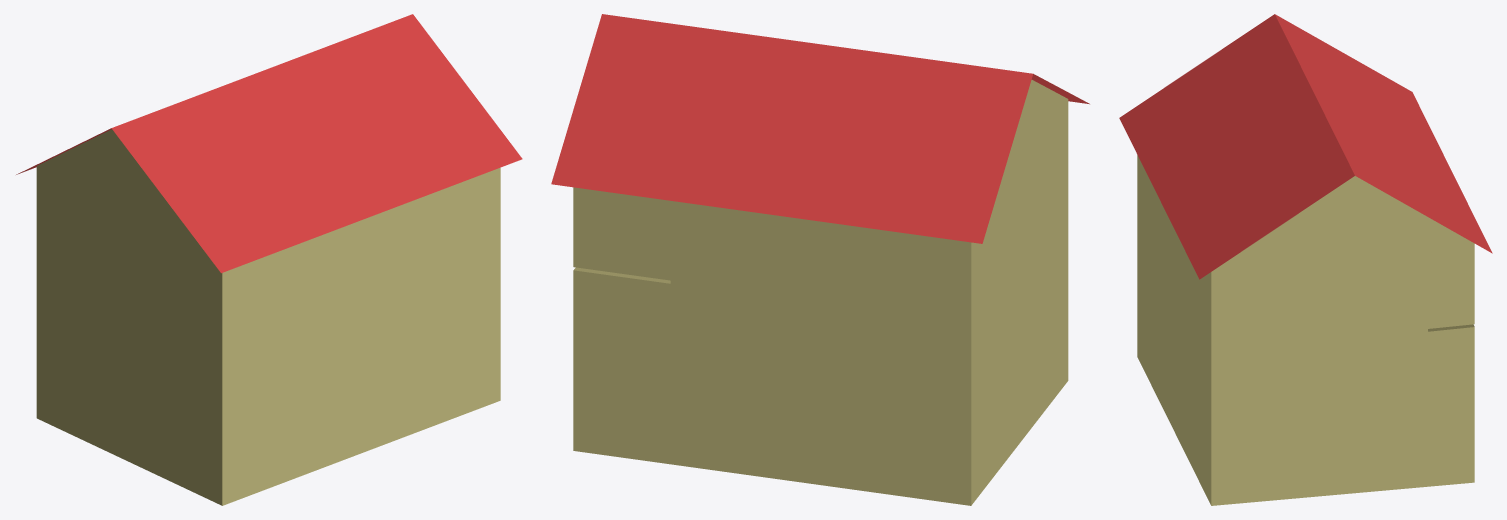
3 views of the same model, side by side, from view 1: azimuth 30°, elevation 25°; view 2: azimuth 150°, elevation 25°; view 3: azimuth 270°, elevation 25° (orthographic). The views are drawn at different scales.
Size of the model in its own units: 14.58 by 12.26 by 11.73.
